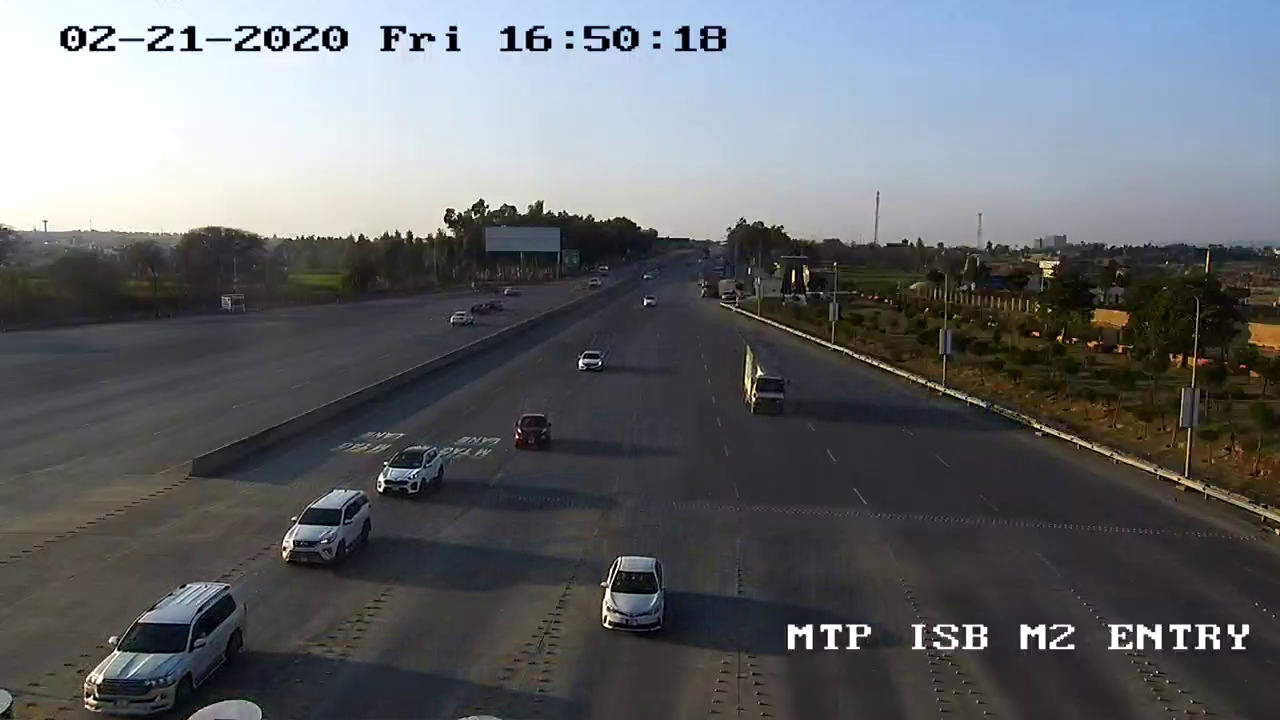f1: (75, 580, 251, 720), (281, 485, 373, 569), (595, 551, 677, 644), (366, 443, 454, 512), (505, 411, 565, 457)
